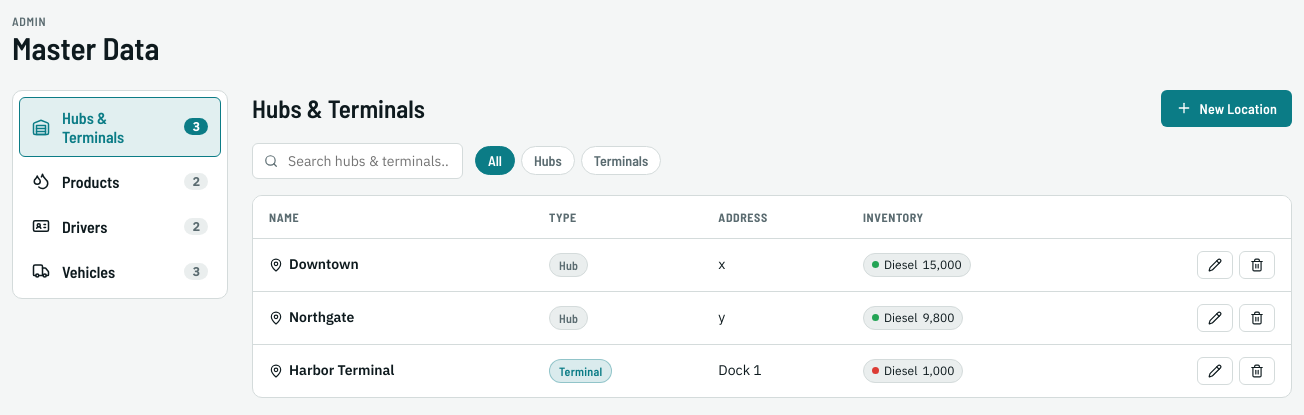
Test case: MasterDataPage › switches between all four rail tabs
The image size is (1304, 415).
Expected: the text "Downtown" is shown, [269, 255, 359, 273]
Click the button "Products 2".
click(120, 181)  # box [19, 161, 221, 202]
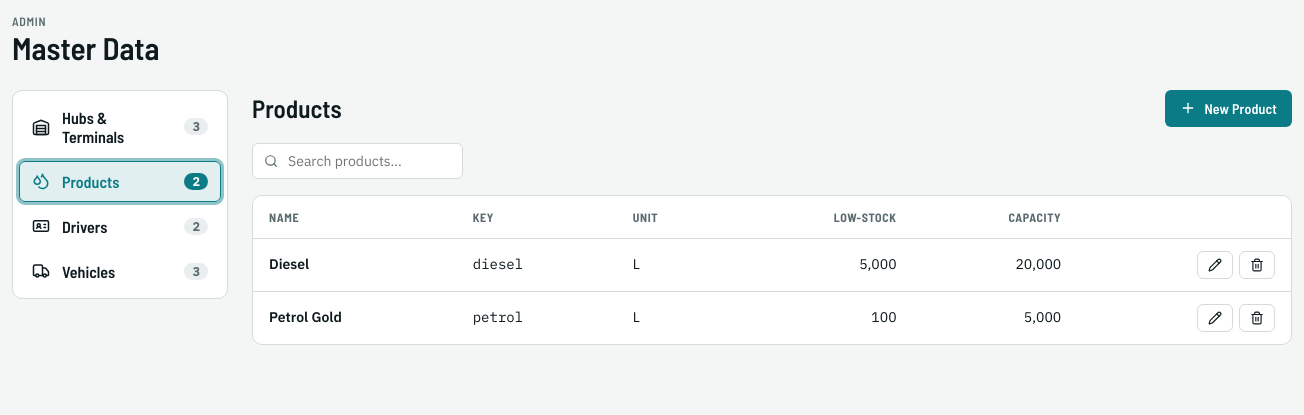
Expected: the text "Diesel" is shown, [269, 255, 309, 273]
Expected: the heading "Products" is shown, [252, 94, 342, 123]
Click the button "Drivers 2".
click(120, 226)  # box [19, 206, 221, 247]
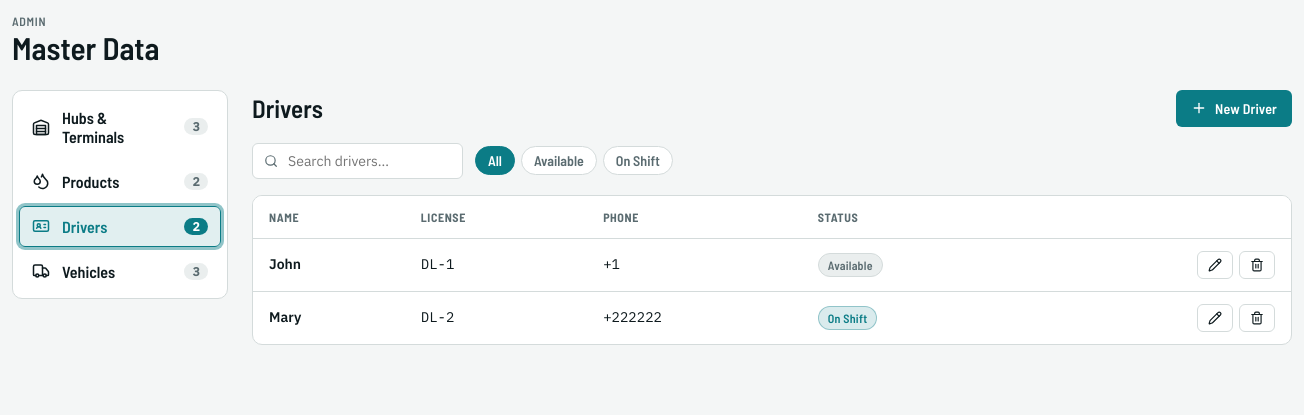
Expected: the heading "Drivers" is shown, [252, 94, 323, 123]
Expected: the text "John" is shown, [269, 255, 301, 273]
Click the button "Vehicles 3".
click(120, 271)  # box [19, 251, 221, 292]
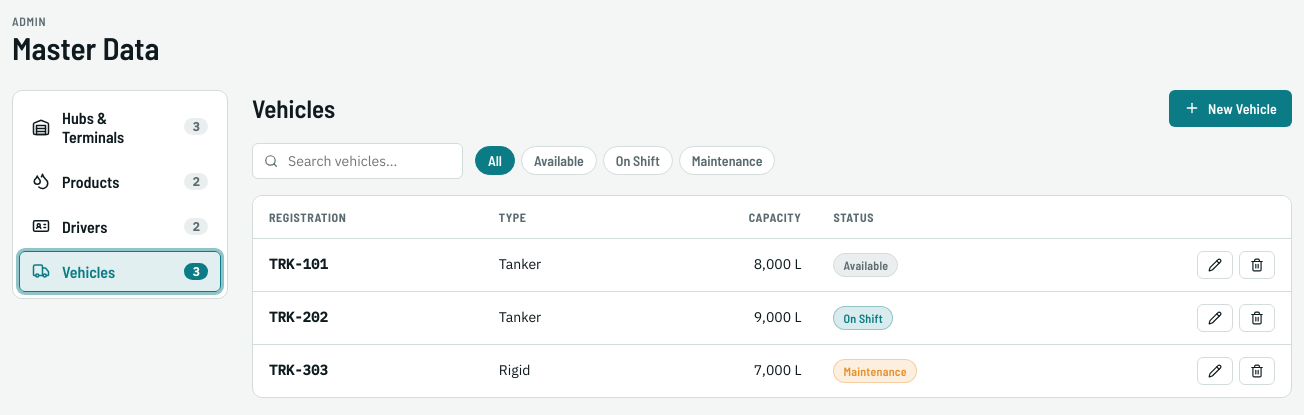
Expected: the heading "Vehicles" is shown, [252, 94, 335, 123]
Expected: the text "TRK-101" is shown, [269, 255, 328, 273]
